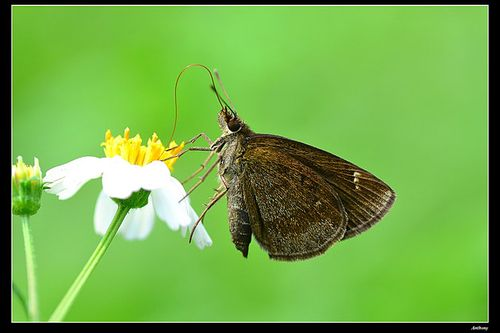Hesperiidae: (167, 64, 399, 268)
